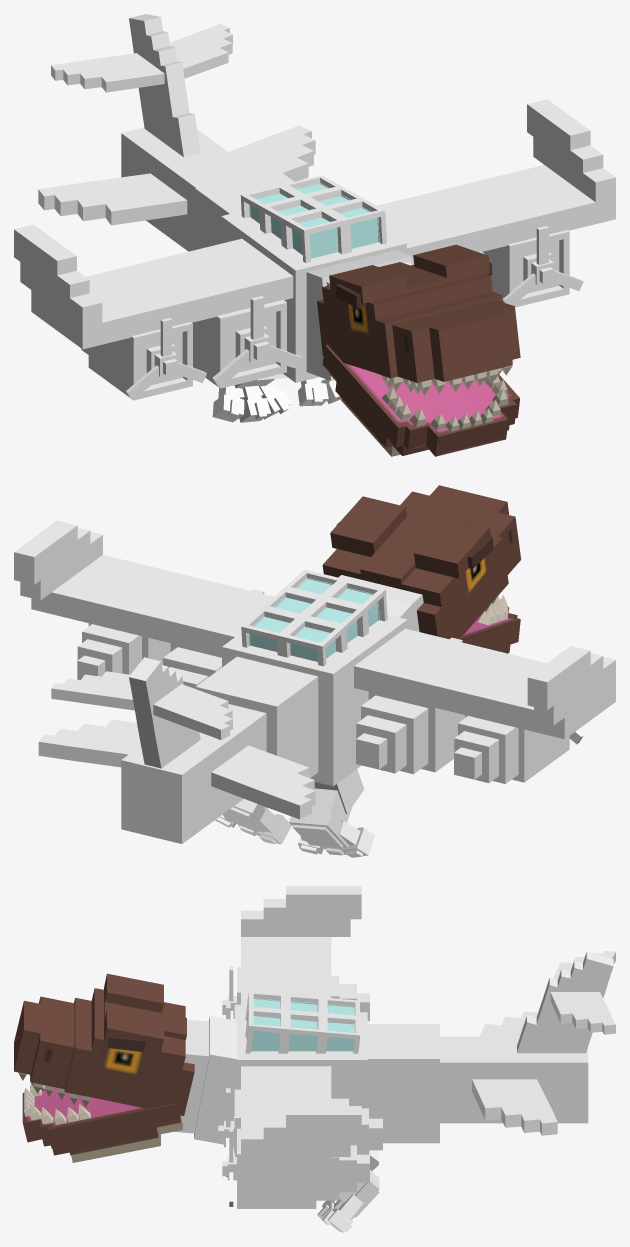
File: NuclearoDinossauro.obj
3 renders of one model, top to bottom at view 1: azimuth 30°, elevation 25°; view 2: azimuth 150°, elevation 25°; view 3: azimuth 270°, elevation 25°, orthographic. The views are drawn at different scales.
Visible parts, largest first — view 1: NuclearoDinossauro_3, NuclearoDinossauro_4, NuclearoDinossauro_2, NuclearoDinossauro_6, NuclearoDinossauro_5, NuclearoDinossauro_0; view 2: NuclearoDinossauro_3, NuclearoDinossauro_4, NuclearoDinossauro_2, NuclearoDinossauro_6, NuclearoDinossauro_5, NuclearoDinossauro_1; view 3: NuclearoDinossauro_3, NuclearoDinossauro_4, NuclearoDinossauro_6, NuclearoDinossauro_2, NuclearoDinossauro_5, NuclearoDinossauro_1.
Boxes of the visible parts, bbox=[...] form: NuclearoDinossauro_3: bbox=[14, 14, 615, 400]; NuclearoDinossauro_4: bbox=[249, 183, 520, 456]; NuclearoDinossauro_2: bbox=[81, 175, 553, 382]; NuclearoDinossauro_6: bbox=[14, 30, 603, 393]; NuclearoDinossauro_5: bbox=[212, 250, 412, 422]; NuclearoDinossauro_0: bbox=[227, 387, 341, 419]; NuclearoDinossauro_3: bbox=[14, 520, 615, 832]; NuclearoDinossauro_4: bbox=[249, 485, 521, 661]; NuclearoDinossauro_2: bbox=[77, 569, 518, 843]; NuclearoDinossauro_6: bbox=[14, 528, 603, 811]; NuclearoDinossauro_5: bbox=[219, 575, 423, 855]; NuclearoDinossauro_1: bbox=[215, 807, 362, 857]; NuclearoDinossauro_3: bbox=[226, 886, 615, 1208]; NuclearoDinossauro_4: bbox=[14, 973, 353, 1162]; NuclearoDinossauro_6: bbox=[226, 899, 611, 1194]; NuclearoDinossauro_2: bbox=[218, 975, 588, 1200]; NuclearoDinossauro_5: bbox=[184, 1016, 379, 1232]; NuclearoDinossauro_1: bbox=[174, 1114, 379, 1231].
Size of the model in its own units: 5.43 by 2.83 by 6.05.
Materials: 7 (1 with a texture image).
